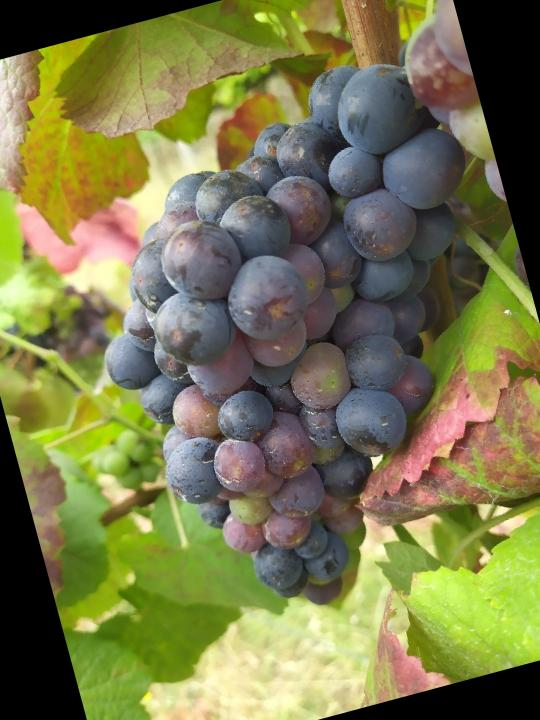grape: (40, 40, 540, 655)
